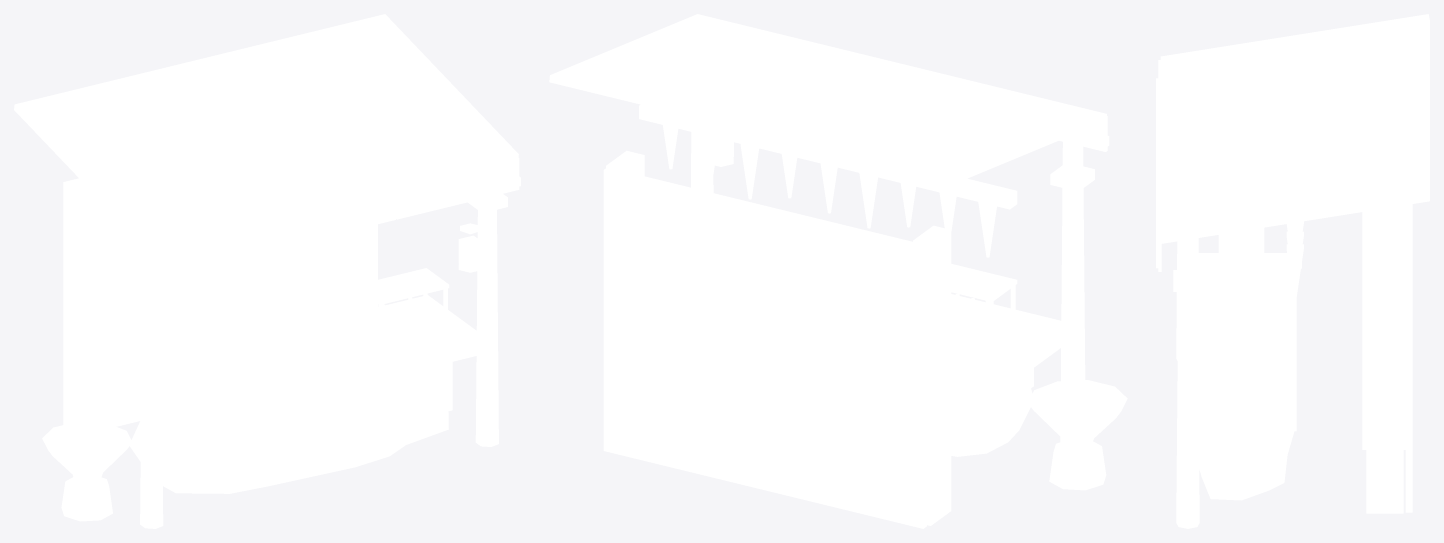
File: kargan_potion_stall.glb
3 renders of one model, left to right at view 1: azimuth 30°, elevation 25°; view 2: azimuth 150°, elevation 25°; view 3: azimuth 270°, elevation 25°, orthographic. The views are drawn at different scales.
Parts seen in each view (by area): view 1: kargan_potion_stall; view 2: kargan_potion_stall; view 3: kargan_potion_stall.
Part boxes in pixels (bbox=[...]): kargan_potion_stall: bbox=[14, 14, 520, 528]; kargan_potion_stall: bbox=[549, 14, 1127, 528]; kargan_potion_stall: bbox=[1156, 14, 1429, 528].
Size of the model in its own units: 3.69 by 2.8 by 2.04.
1 material, 1 textured.
